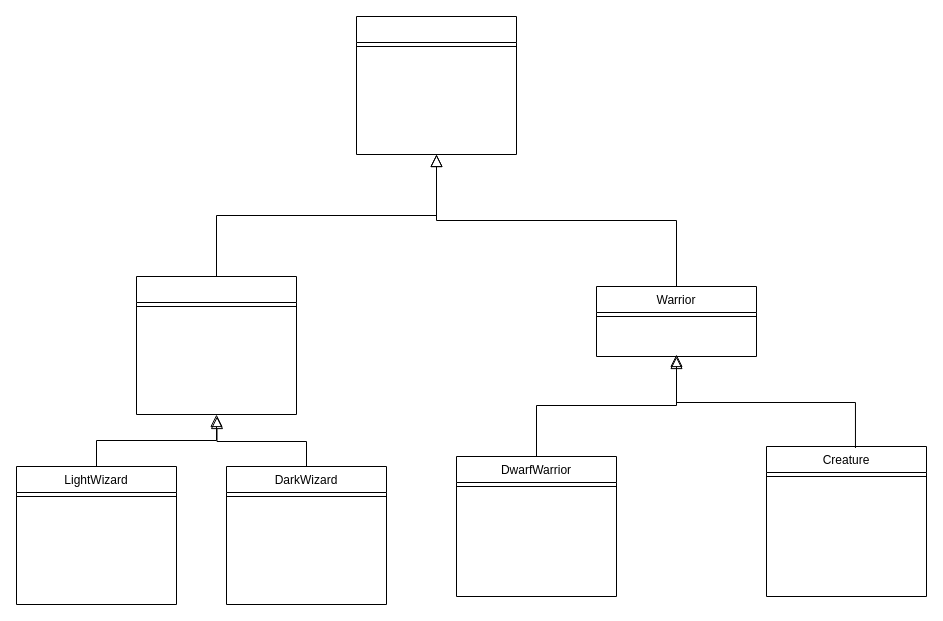
Some shapes in this 943 by 621 pixel diagram are drawn without their labels. Here are the shapes that lost their labels. From the top down, the centre of each, then its label:
At point (436, 85): "WarcraftCharacter".
At point (216, 345): "Wizard".
